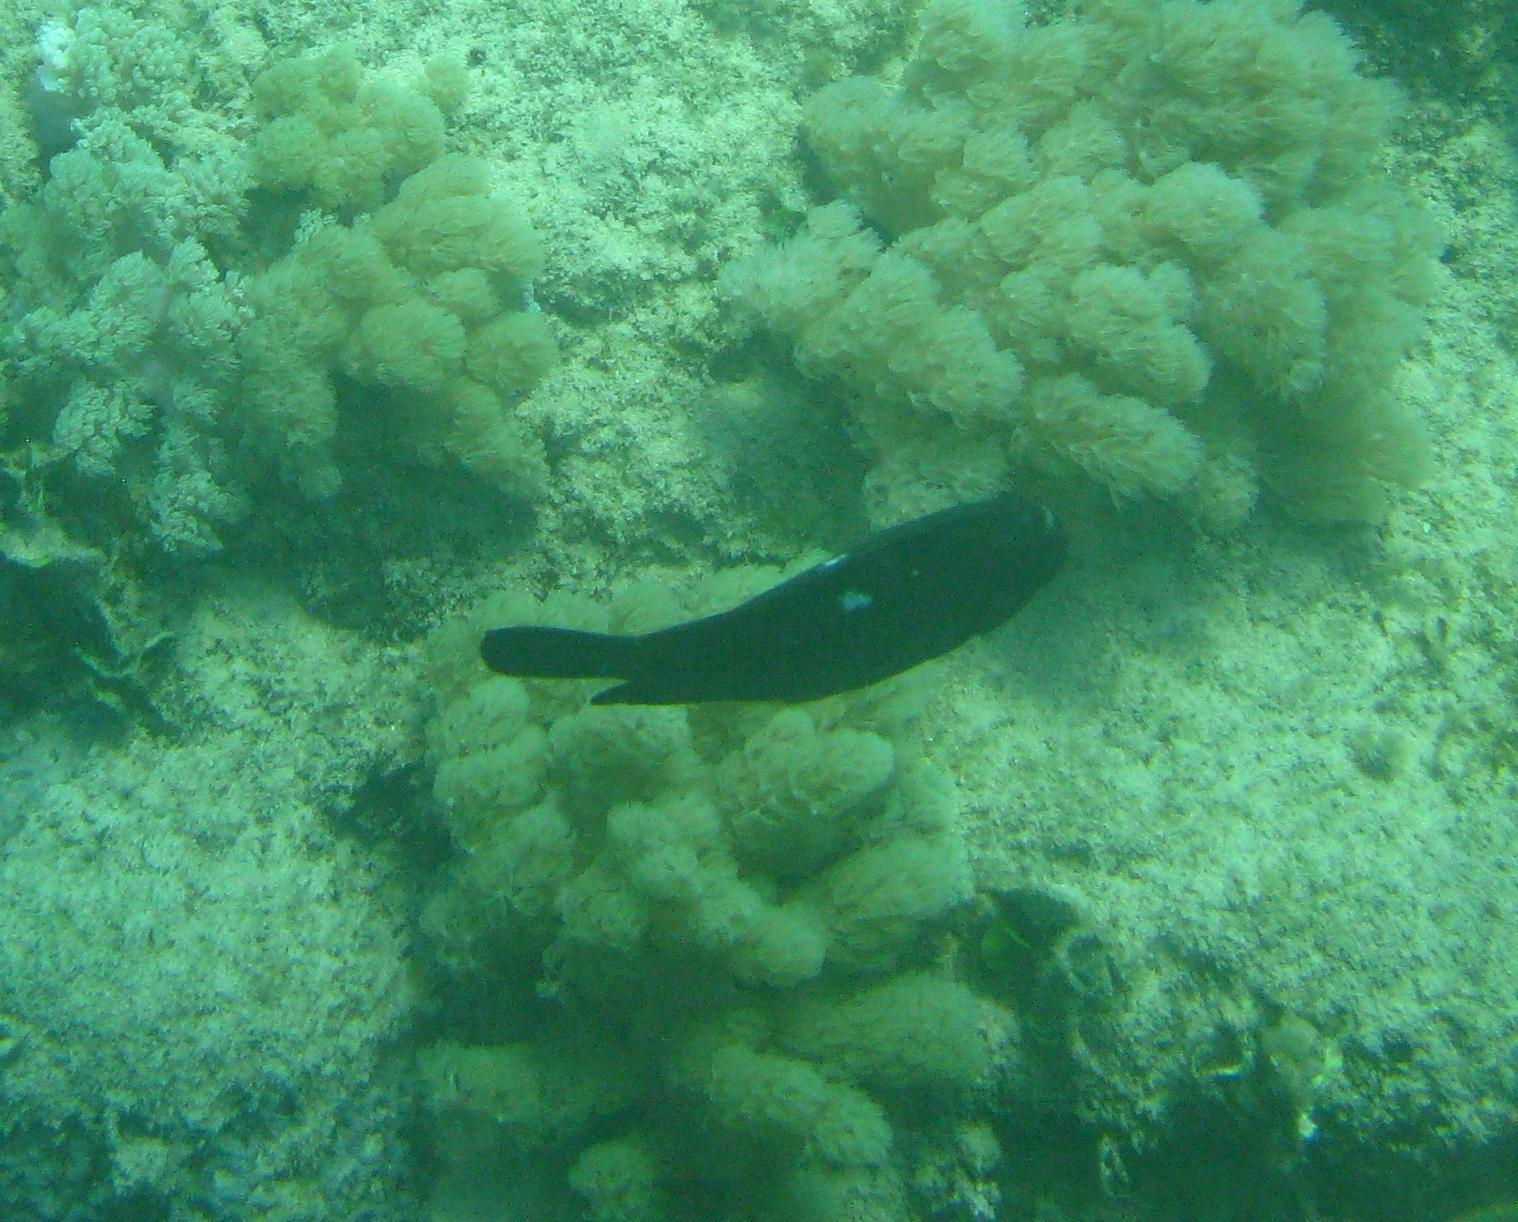Dascyllus trimaculatus: (432, 456, 1221, 788)
